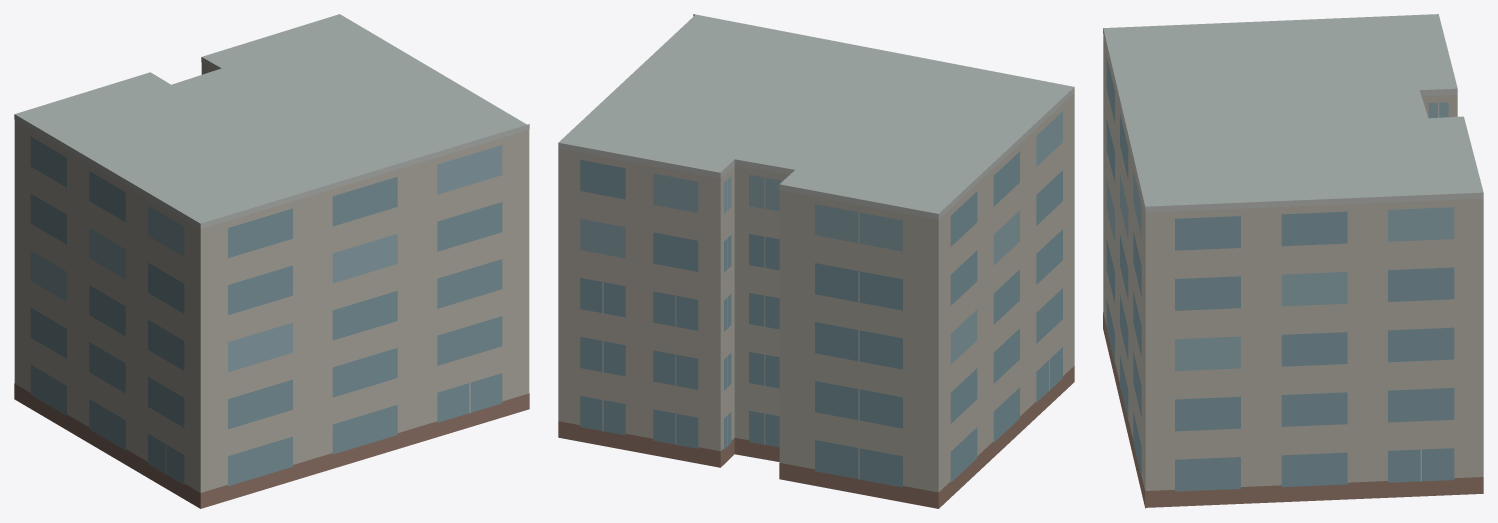
The model's file is survey-upis-33021836.glb.
3 renders of one model, left to right at view 1: azimuth 30°, elevation 25°; view 2: azimuth 150°, elevation 25°; view 3: azimuth 270°, elevation 25°, orthographic. The views are drawn at different scales.
Visible parts, largest first — view 1: survey-upis-33021836.tmp; view 2: survey-upis-33021836.tmp; view 3: survey-upis-33021836.tmp.
Part boxes in pixels (left/top/right/bottom): survey-upis-33021836.tmp: left=14, top=14, right=529, bottom=508; survey-upis-33021836.tmp: left=558, top=14, right=1074, bottom=508; survey-upis-33021836.tmp: left=1103, top=14, right=1483, bottom=508.
Size of the model in its own units: 17.25 by 12.5 by 14.32.
